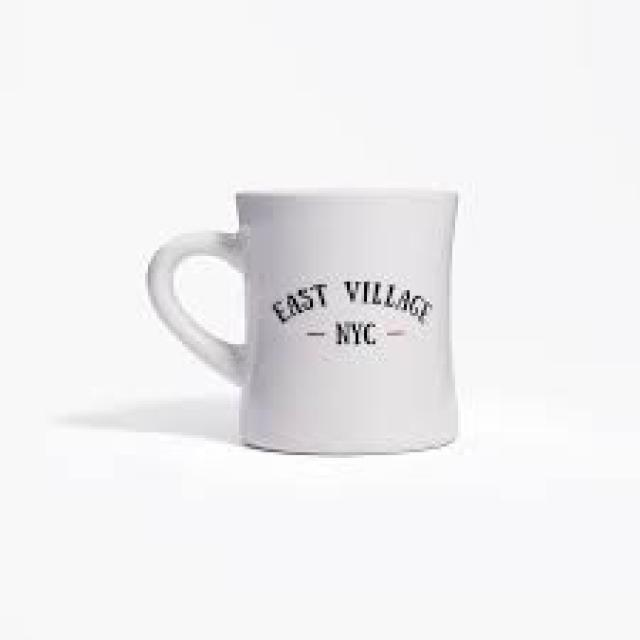taza: (144, 186, 460, 456)
